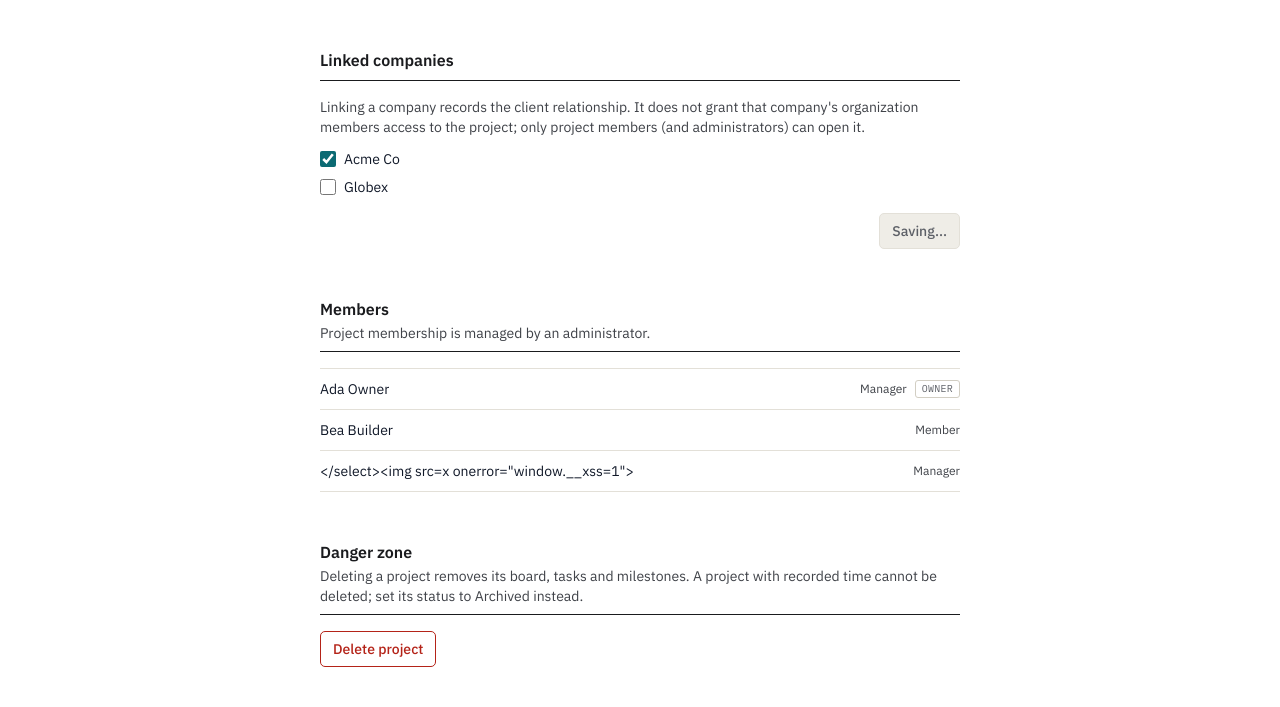
disables dialog actions while the delete is in flight
(page scrolled)
What coordinates should you click on to do the following:
click the button "Delete project"
I would click on:
 (378, 649)
Its box is [320,631,436,667].
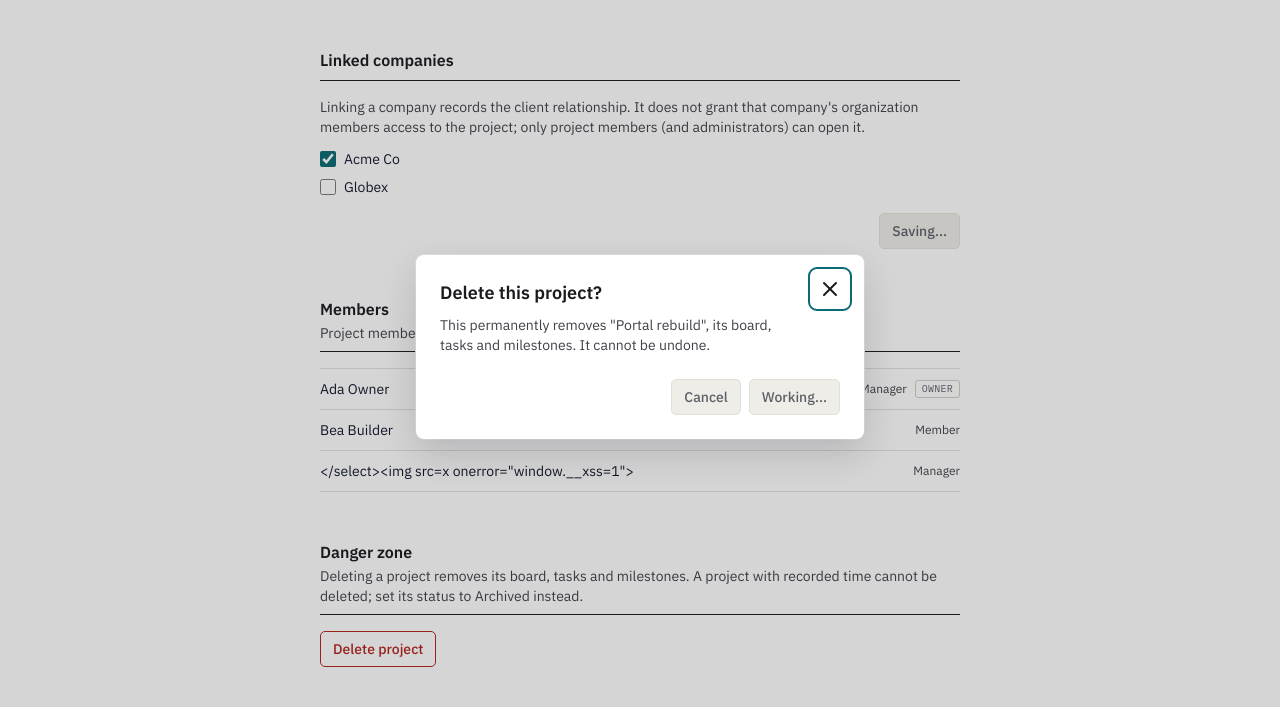
Expected: the button "Cancel" is disabled, [671,379,741,415]
Expected: the button "Working..." is disabled, [749,379,840,415]
